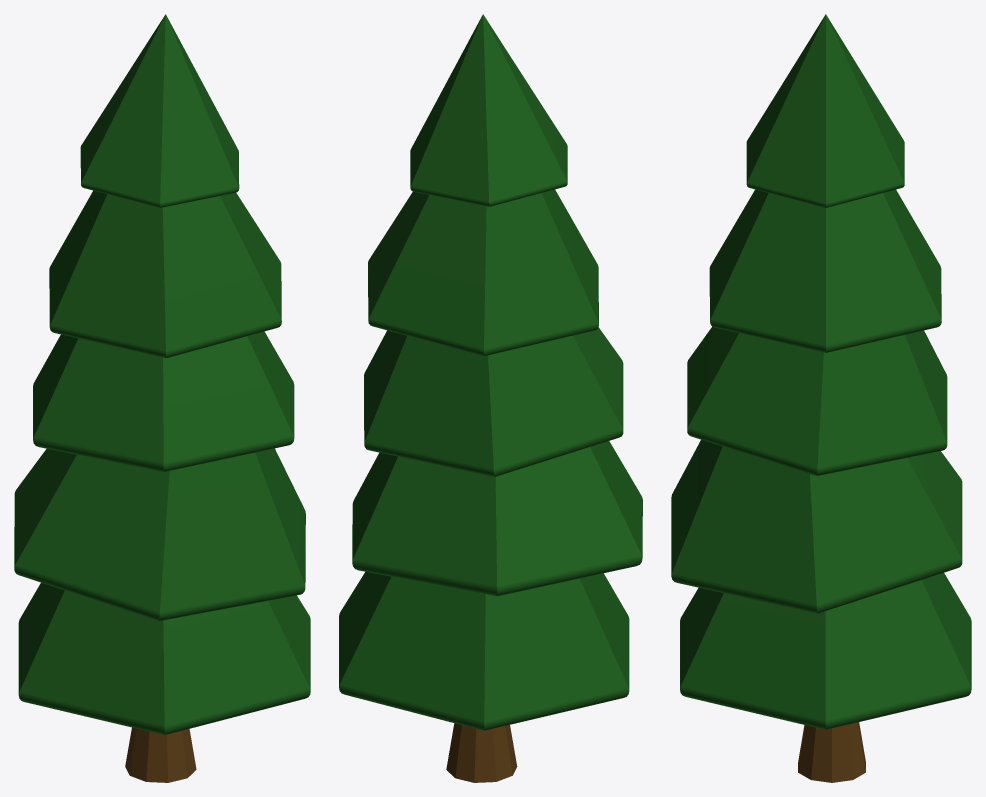
Rendered from Medium_Tree_01.fbx.
3 views of the same model, side by side, from view 1: azimuth 30°, elevation 25°; view 2: azimuth 150°, elevation 25°; view 3: azimuth 270°, elevation 25° (orthographic).
Parts seen in each view (by area): view 1: medium_tree_leaves_02, medium_tree_leaves_01, medium_tree_leaves_04, medium_tree_leaves_03, medium_tree_leaves_05, medium_tree_base; view 2: medium_tree_leaves_01, medium_tree_leaves_02, medium_tree_leaves_04, medium_tree_leaves_03, medium_tree_leaves_05, medium_tree_base; view 3: medium_tree_leaves_02, medium_tree_leaves_01, medium_tree_leaves_03, medium_tree_leaves_04, medium_tree_leaves_05, medium_tree_base.
Boxes of the visible parts, <box> form: medium_tree_leaves_02: <box>14,448,305,620</box>; medium_tree_leaves_01: <box>18,582,310,734</box>; medium_tree_leaves_04: <box>49,190,281,358</box>; medium_tree_leaves_03: <box>33,331,294,471</box>; medium_tree_leaves_05: <box>80,14,239,207</box>; medium_tree_base: <box>125,727,196,782</box>; medium_tree_leaves_01: <box>339,571,629,730</box>; medium_tree_leaves_02: <box>352,441,642,596</box>; medium_tree_leaves_04: <box>368,189,598,356</box>; medium_tree_leaves_03: <box>364,327,623,477</box>; medium_tree_leaves_05: <box>410,14,567,206</box>; medium_tree_base: <box>446,723,517,782</box>; medium_tree_leaves_02: <box>671,439,962,613</box>; medium_tree_leaves_01: <box>680,573,971,729</box>; medium_tree_leaves_03: <box>687,326,947,475</box>; medium_tree_leaves_04: <box>709,189,941,352</box>; medium_tree_leaves_05: <box>746,14,904,207</box>; medium_tree_base: <box>798,722,865,782</box>.
Size of the model in its own units: 193 by 462 by 167.
